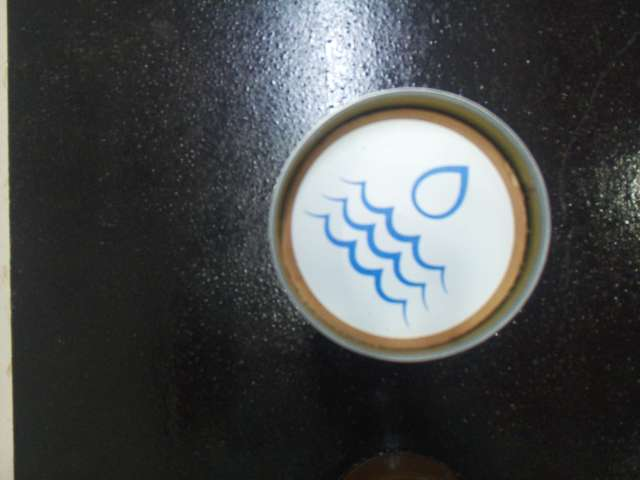water_barrel: (291, 121, 516, 338)
